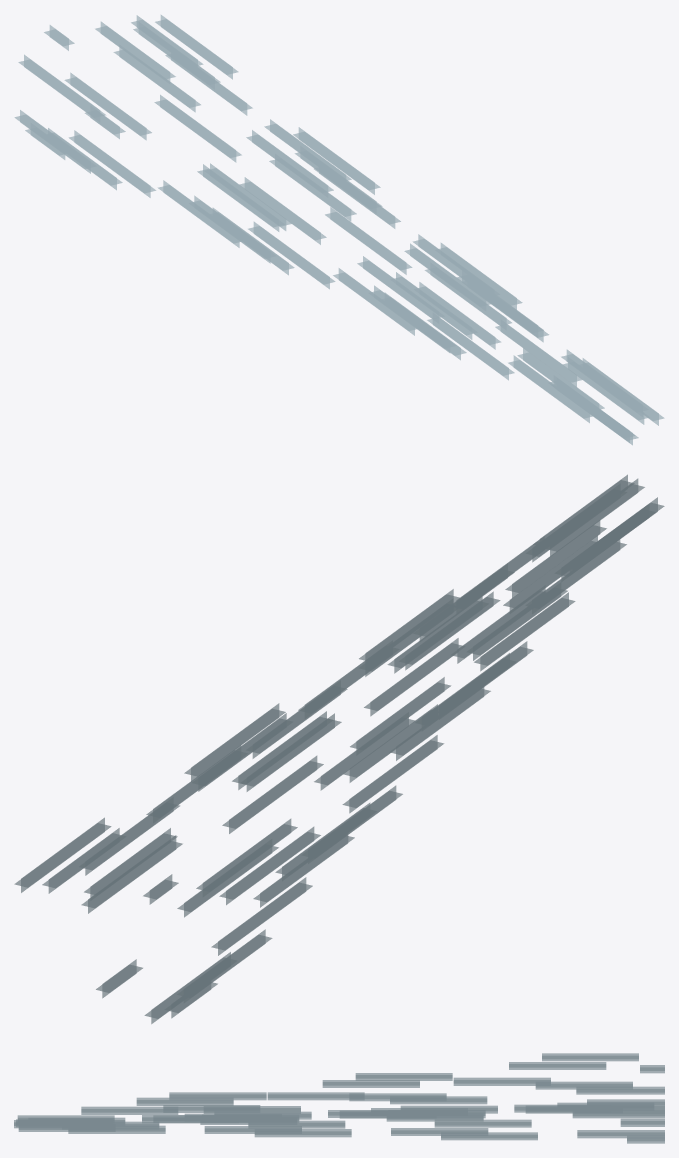
The model's file is wp_water_351.obj.
3 renders of one model, top to bottom at view 1: azimuth 30°, elevation 25°; view 2: azimuth 150°, elevation 25°; view 3: azimuth 270°, elevation 25°, orthographic. The views are drawn at different scales.
Bounding box in the file's own units: 0.3066 × 0.2456 × 1.61.
Materials: 1 (1 with a texture image).
